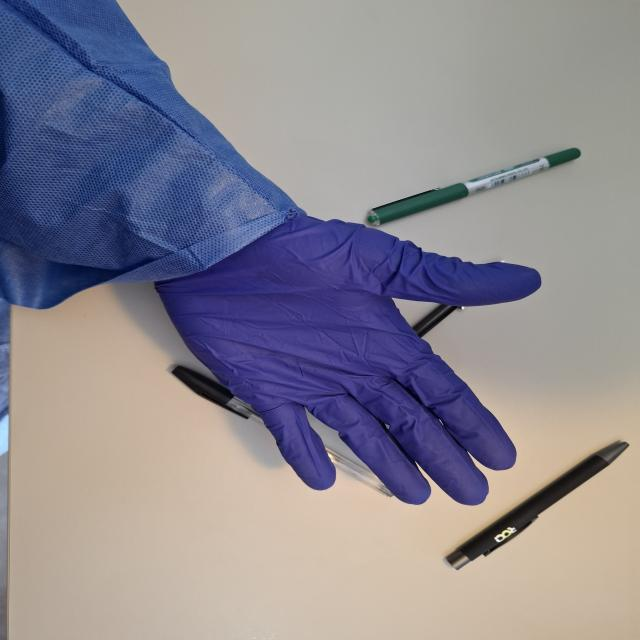glove_on: (149, 205, 547, 508)
